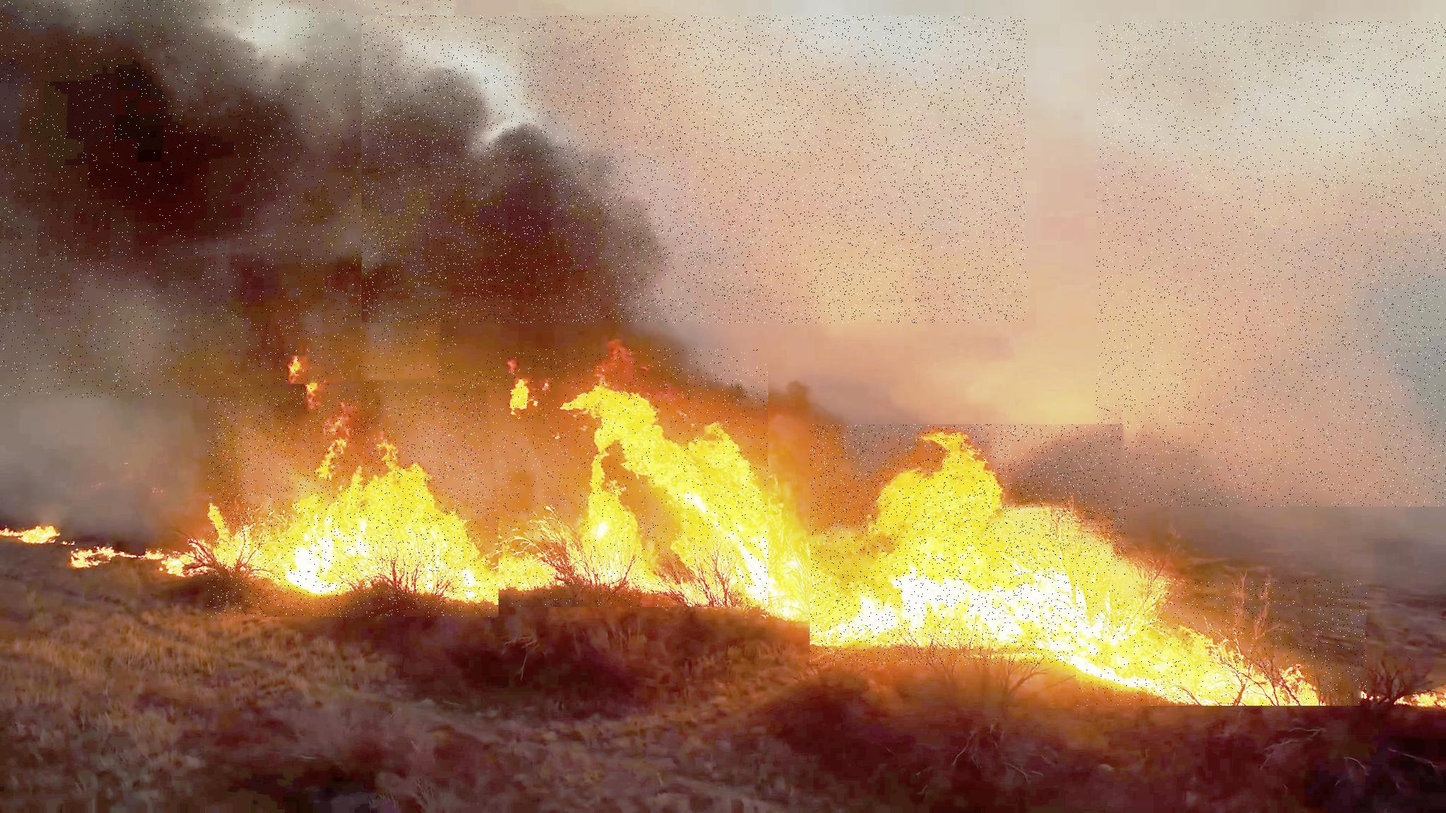fire: (810, 424, 1126, 666), (482, 349, 768, 607), (208, 371, 498, 617), (1076, 580, 1367, 706)
smoke: (361, 16, 1028, 323), (0, 0, 456, 398), (1096, 21, 1446, 507)
